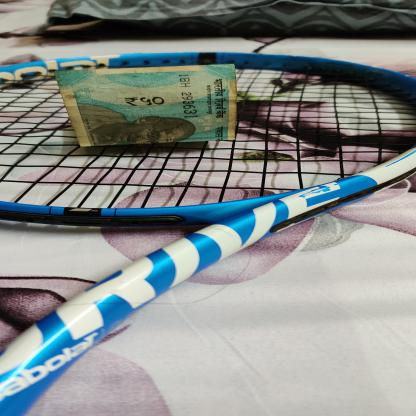New50Front: (55, 63, 237, 147)
